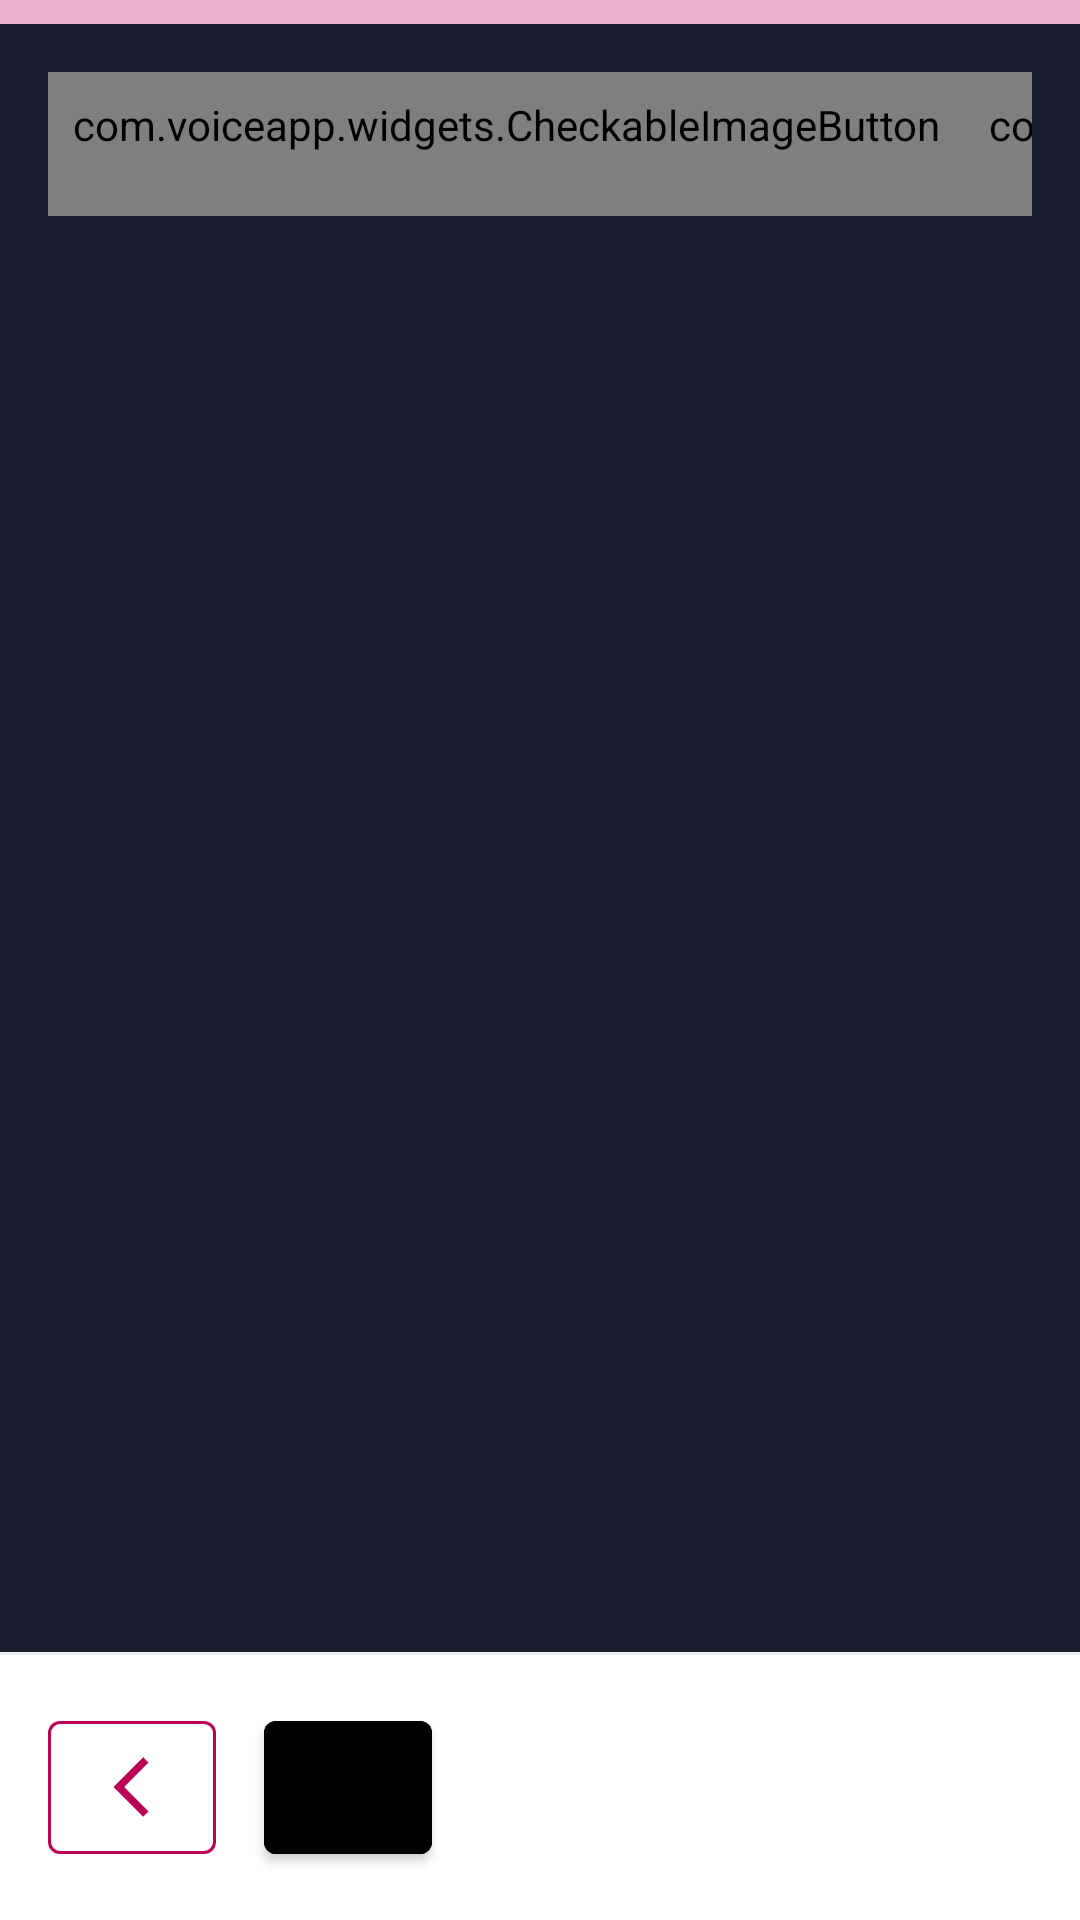

Named icons in this screenshot (1080 x 1920) and their bounding boxes, (x1, y1, x2, y2):
arrow back: (48, 1721, 216, 1854)
